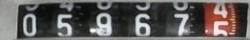digits: (209, 3, 230, 39), (92, 12, 115, 38), (133, 12, 150, 34), (56, 14, 73, 36), (173, 12, 189, 34), (22, 12, 36, 36)
